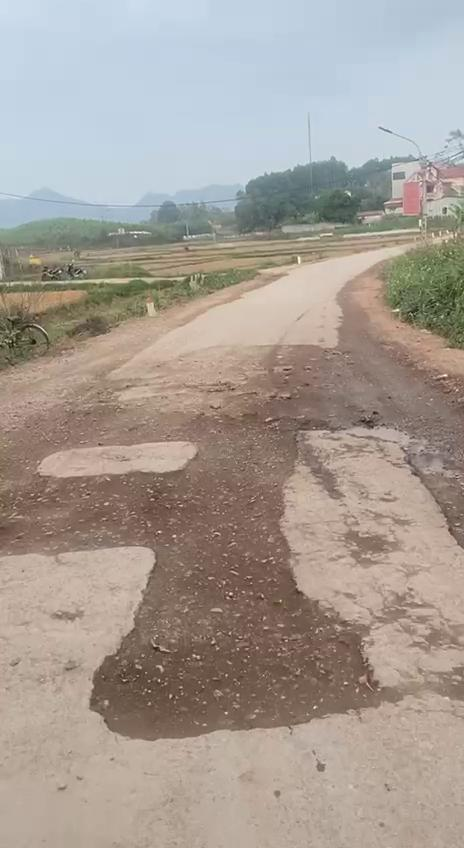pothole: (89, 467, 391, 744)
